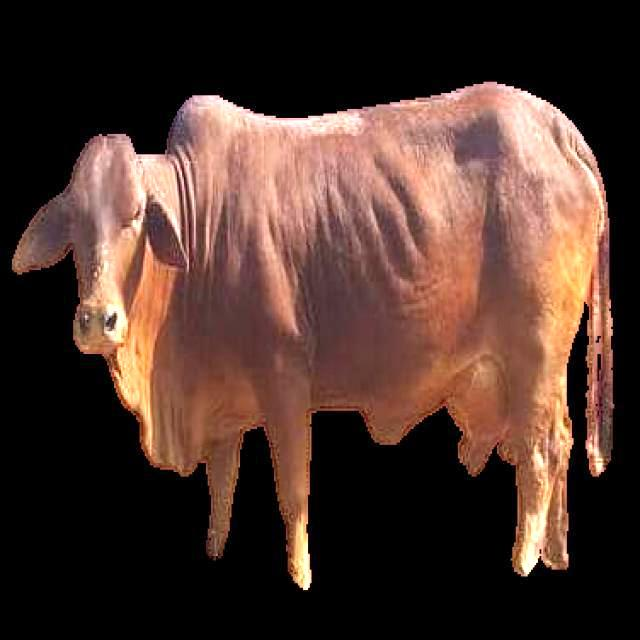COW: (12, 84, 611, 588)
